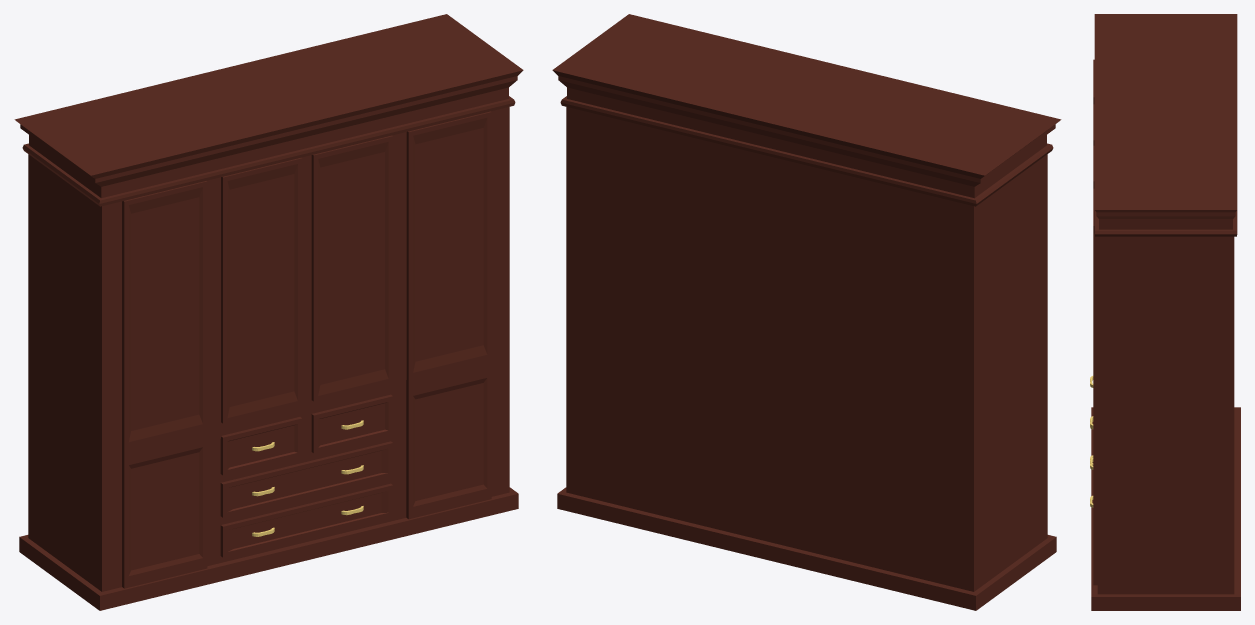
Rendered from classic wardrobe.fbx.
The picture shows the model from 3 angles, left to right: view 1: azimuth 30°, elevation 25°; view 2: azimuth 150°, elevation 25°; view 3: azimuth 270°, elevation 25°; orthographic projection. The views are drawn at different scales.
Parts seen in each view (by area): view 1: Classic wardrobe; view 2: Classic wardrobe; view 3: Classic wardrobe.
Boxes of the visible parts, x1,y1,x2,y2 form: Classic wardrobe: (14, 14, 523, 610); Classic wardrobe: (552, 14, 1061, 610); Classic wardrobe: (1090, 14, 1240, 610).
Size of the model in its own units: 225 by 216 by 73.15.
Materials: 1 (1 with a texture image).
